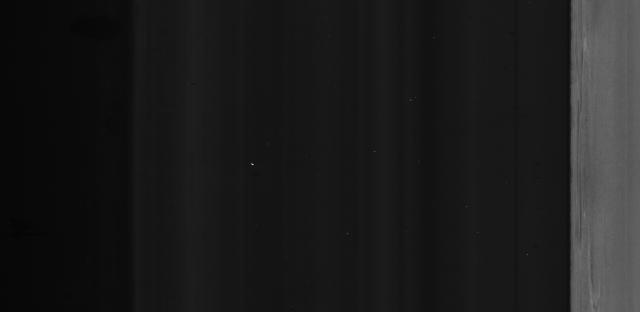silk_spot: (576, 17, 619, 312)
